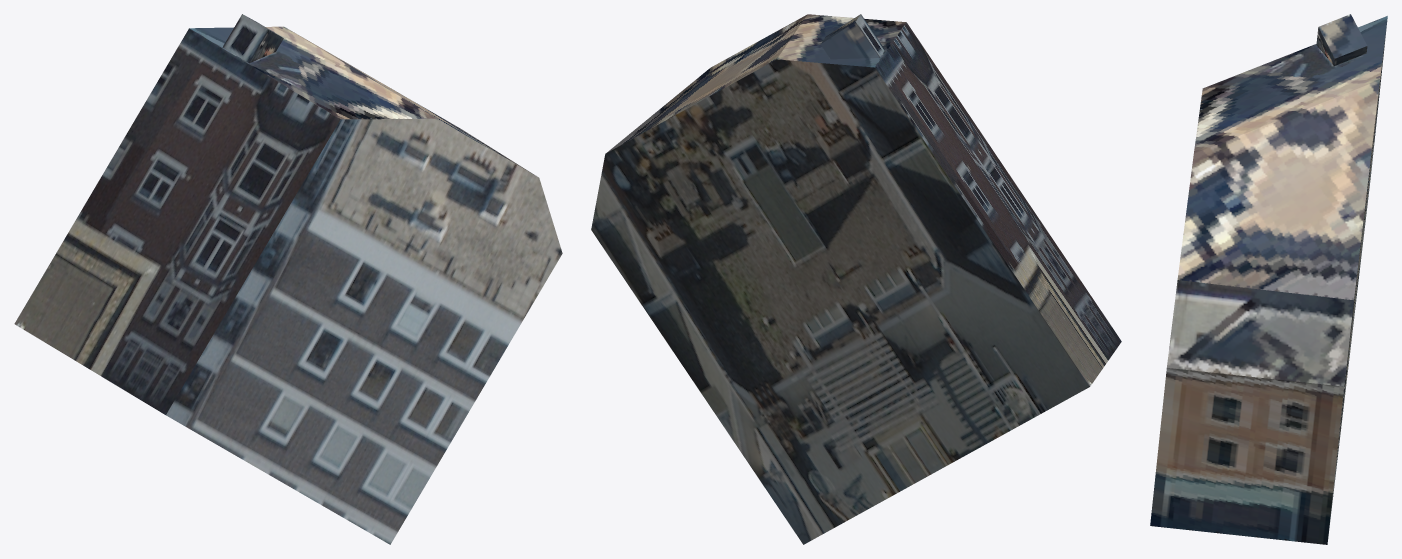
3 views of the same model, side by side, from view 1: azimuth 30°, elevation 25°; view 2: azimuth 150°, elevation 25°; view 3: azimuth 270°, elevation 25° (orthographic). The views are drawn at different scales.
Visible parts, largest first — view 1: BAG_0599100000671750 (×4); view 2: BAG_0599100000671750 (×5); view 3: BAG_0599100000671750 (×4).
Part boxes in pixels (<box>): BAG_0599100000671750 (×4): <box>14,14,562,544</box>; BAG_0599100000671750 (×5): <box>591,14,1121,544</box>; BAG_0599100000671750 (×4): <box>1150,14,1387,544</box>.
Bounding box in the file's own units: 19.94 × 20.34 × 8.73.
5 materials, 5 textured.
